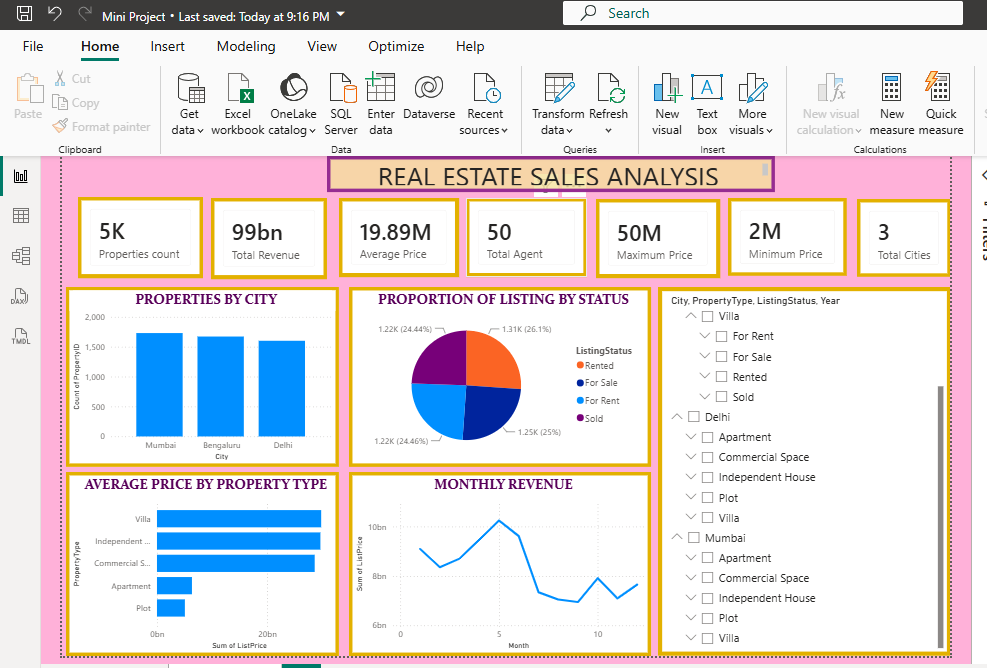

This screenshot's page, from the dashboard's own definition file:
{"tool":"powerbi","page":{"name":"DASHBOARD","canvas":[1280,720],"ordinal":0},"visuals":[{"type":"cardVisual","fields":{"Data":["Property_Listings.Properties count"]},"box":[23,59,180,116.6],"z":0},{"type":"cardVisual","fields":{"Data":["Property_Listings.Total Revenue"]},"box":[214.6,60.5,167,116.6],"z":1000},{"type":"cardVisual","fields":{"Data":["Property_Listings.Average Price"]},"box":[398.9,60.5,172.8,113.8],"z":2000},{"type":"cardVisual","fields":{"Data":["Property_Listings.Maximum Price"]},"box":[769,61.9,178.6,113.8],"z":3000},{"type":"cardVisual","fields":{"Data":["Property_Listings.Minimum Price"]},"box":[959,60.5,171.4,112.3],"z":4000},{"type":"cardVisual","fields":{"Data":["Property_Listings.Total Cities"]},"box":[1144.8,61.9,135.4,112.3],"z":5000},{"type":"cardVisual","fields":{"Data":["Property_Listings.Total Agent"]},"box":[581.8,60.5,174.2,113.8],"z":6000},{"type":"textbox","box":[381.6,0,645.1,51.8],"z":7000},{"type":"clusteredColumnChart","title":"PROPERTIES BY CITY","fields":{"Category":["Property_Listings.City"],"Y":["CountNonNull(Property_Listings.PropertyID)"]},"box":[5.8,188.6,393.1,259.2],"z":8000},{"type":"pieChart","title":"PROPORTION OF LISTING BY STATUS","fields":{"Category":["Property_Listings.ListingStatus"],"Y":["CountNonNull(Property_Listings.PropertyID)"]},"box":[413.3,188.6,434.9,259.2],"z":9000},{"type":"clusteredBarChart","title":"AVERAGE PRICE BY PROPERTY TYPE","fields":{"Category":["Property_Listings.PropertyType"],"Y":["Sum(Property_Listings.ListPrice)"]},"box":[5.8,455,393.1,265],"z":10000},{"type":"lineChart","title":"MONTHLY REVENUE","fields":{"Category":["Property_Listings.Month"],"Y":["Sum(Property_Listings.ListPrice)"]},"box":[413.3,455,434.9,265],"z":11000},{"type":"slicer","fields":{"Values":["Property_Listings.City","Property_Listings.PropertyType","Property_Listings.ListingStatus","Property_Listings.Year"]},"box":[858.2,188.6,421.9,531.4],"z":12000}]}

Visuals, with their boxes on the page's 1280x720 design canvas (x1, y1, x2, y2). These are canvas units, not pixel positions in the 987x668 screenshot, which may show the page scaled, cropped or inside an application window:
cardVisual - Property_Listings.Properties count: <box>23,59,203,176</box>
cardVisual - Property_Listings.Total Revenue: <box>215,60,382,177</box>
cardVisual - Property_Listings.Average Price: <box>399,60,572,174</box>
cardVisual - Property_Listings.Maximum Price: <box>769,62,948,176</box>
cardVisual - Property_Listings.Minimum Price: <box>959,60,1130,173</box>
cardVisual - Property_Listings.Total Cities: <box>1145,62,1280,174</box>
cardVisual - Property_Listings.Total Agent: <box>582,60,756,174</box>
textbox: <box>382,0,1027,52</box>
"PROPERTIES BY CITY" clusteredColumnChart: <box>6,189,399,448</box>
"PROPORTION OF LISTING BY STATUS" pieChart: <box>413,189,848,448</box>
"AVERAGE PRICE BY PROPERTY TYPE" clusteredBarChart: <box>6,455,399,720</box>
"MONTHLY REVENUE" lineChart: <box>413,455,848,720</box>
slicer - Property_Listings.City x Property_Listings.PropertyType: <box>858,189,1280,720</box>
